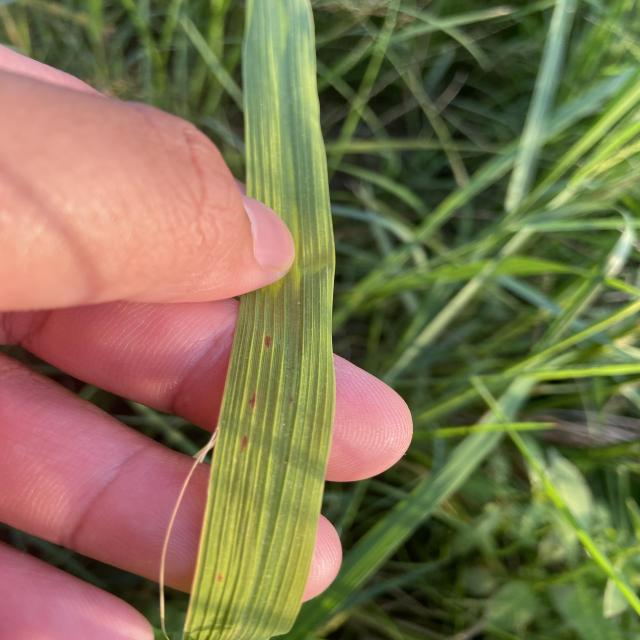Dom nau: (241, 435, 248, 451), (249, 393, 256, 408), (265, 336, 271, 348)
